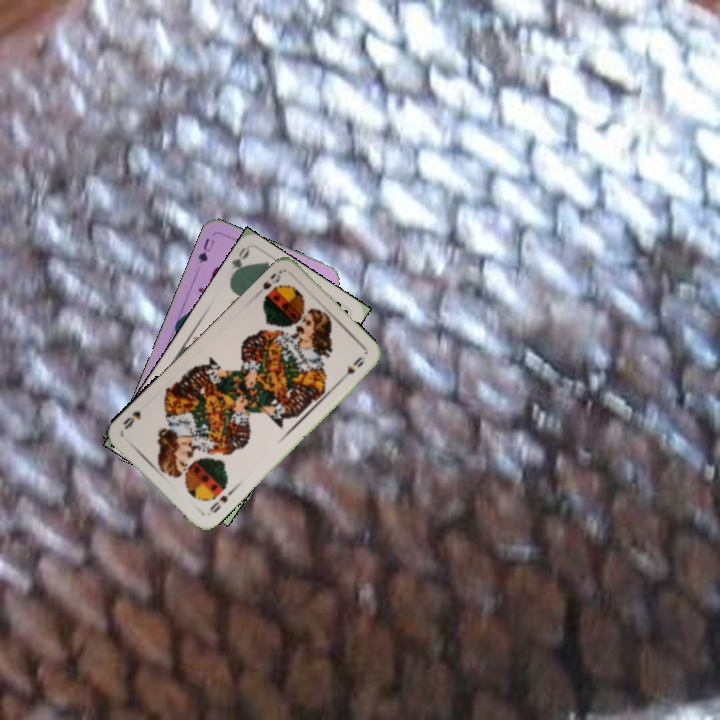GO: (225, 243, 252, 282)
GU: (194, 234, 217, 266)
SO: (205, 486, 236, 516), (259, 267, 284, 292)
